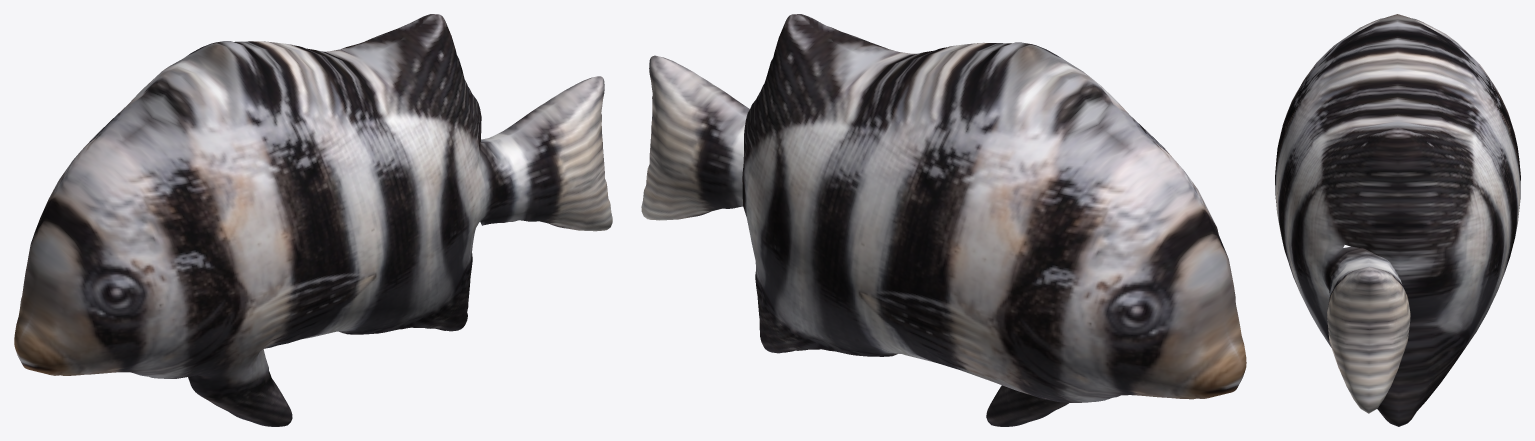
The model's file is A石鯛.glb.
The picture shows the model from 3 angles, left to right: view 1: azimuth 30°, elevation 25°; view 2: azimuth 150°, elevation 25°; view 3: azimuth 270°, elevation 25°; orthographic projection. The views are drawn at different scales.
Size of the model in its own units: 3.39 by 2.12 by 1.39.
Materials: 1 (1 with a texture image).
